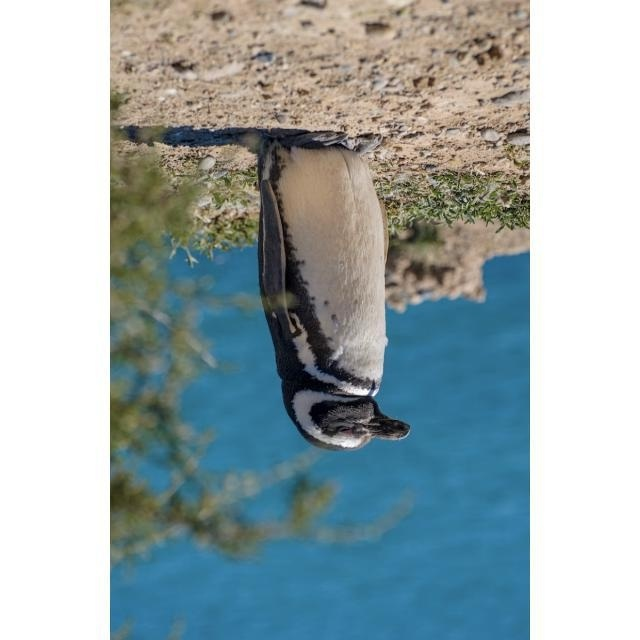penguin: (238, 128, 412, 451)
